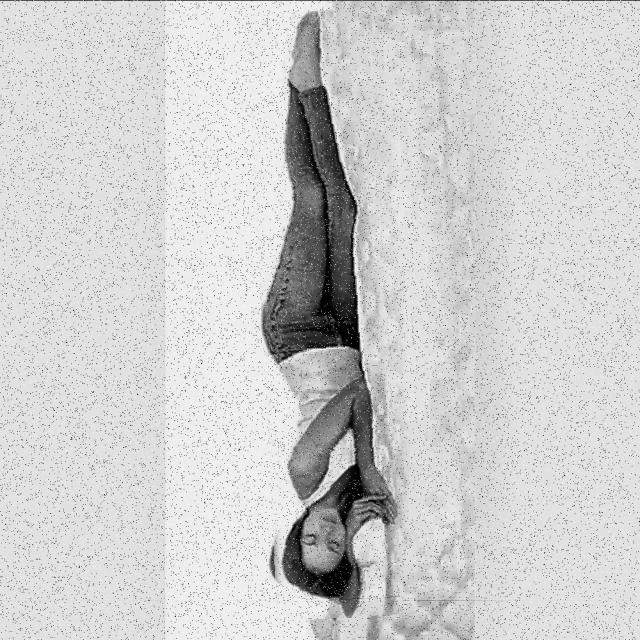Not_Supine: (263, 12, 398, 619)
